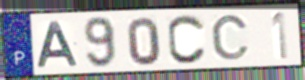0: (125, 14, 163, 68)
1: (270, 11, 289, 60)
9: (82, 15, 119, 70)
A: (35, 20, 81, 69)
C: (166, 13, 208, 66), (209, 13, 252, 61)
